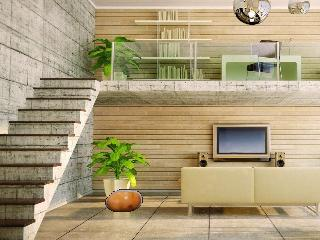potato: (103, 186, 144, 214)
